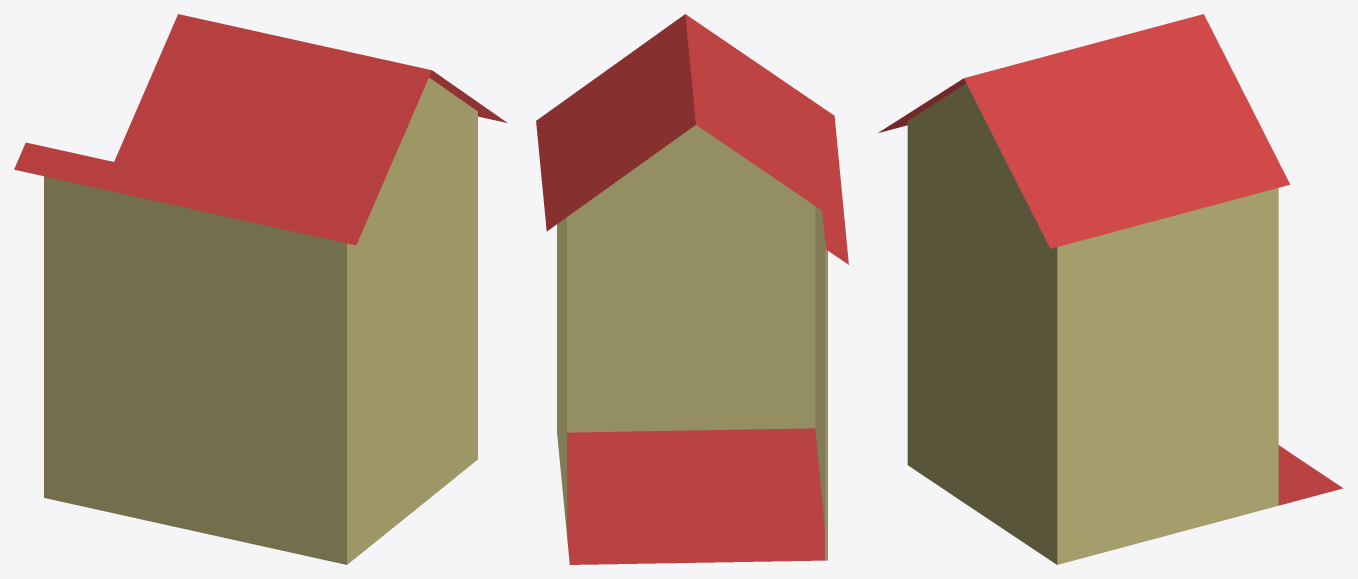
The picture shows the model from 3 angles, left to right: view 1: azimuth 30°, elevation 25°; view 2: azimuth 150°, elevation 25°; view 3: azimuth 270°, elevation 25°; orthographic projection. The views are drawn at different scales.
Bounding box in the file's own units: 10.92 × 10.65 × 11.13.
